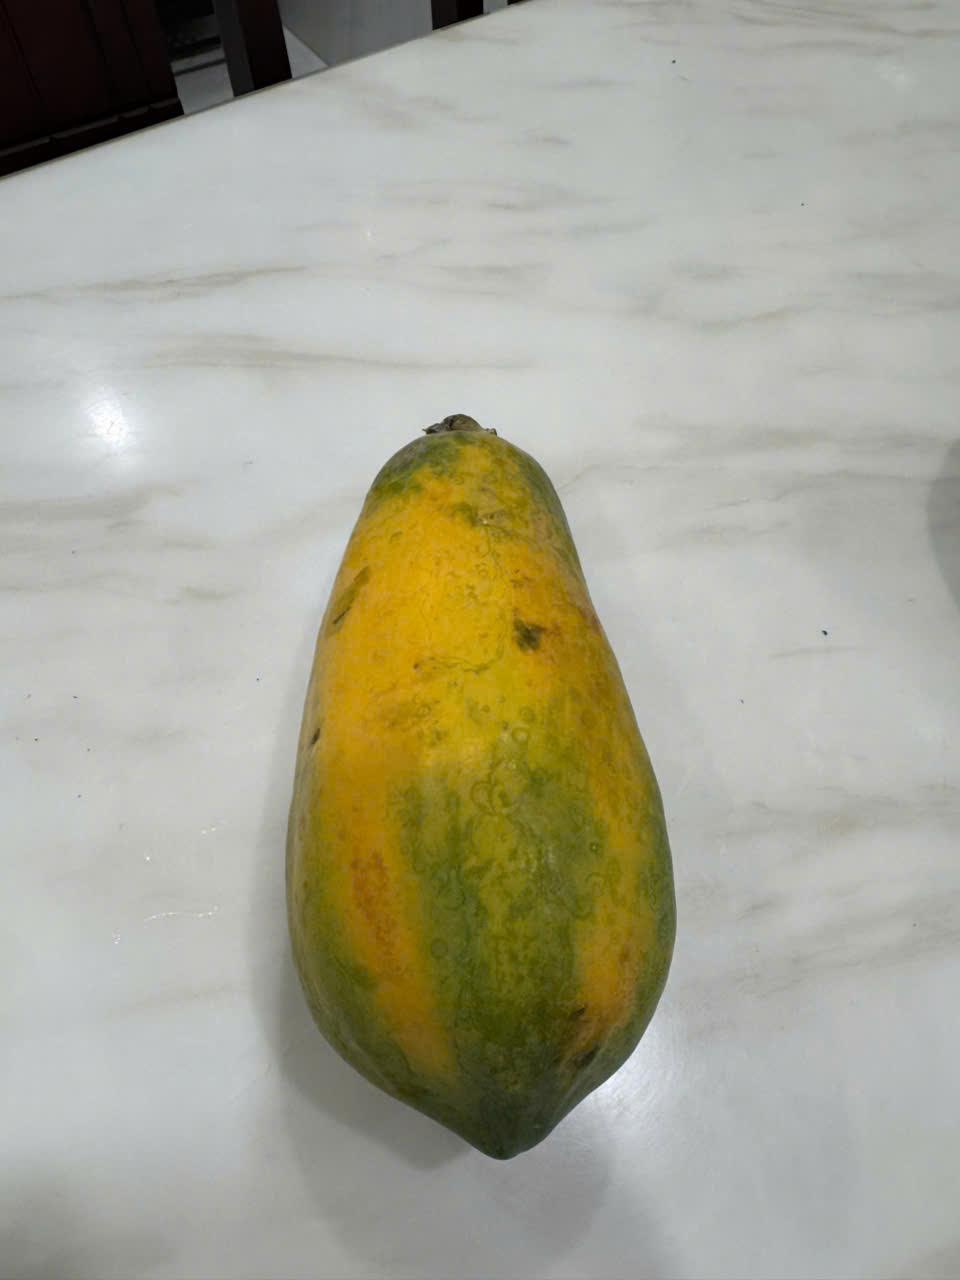papaya: (260, 380, 760, 1194)
